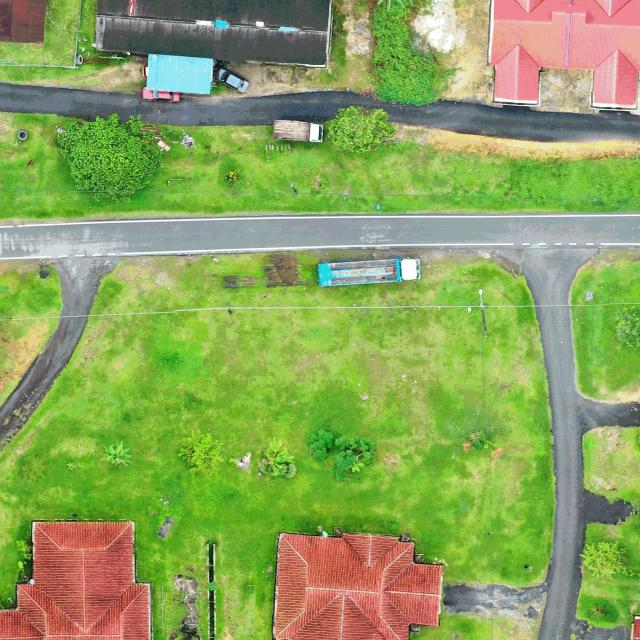banana_tree2: (101, 437, 133, 467)
tree: (55, 113, 164, 203), (326, 104, 396, 154), (177, 430, 224, 474), (334, 433, 375, 475), (306, 428, 336, 461)
